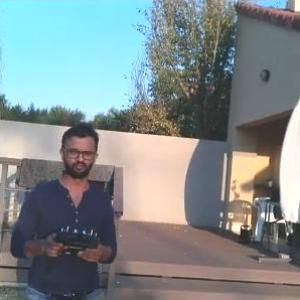follow: (5, 117, 121, 299)
